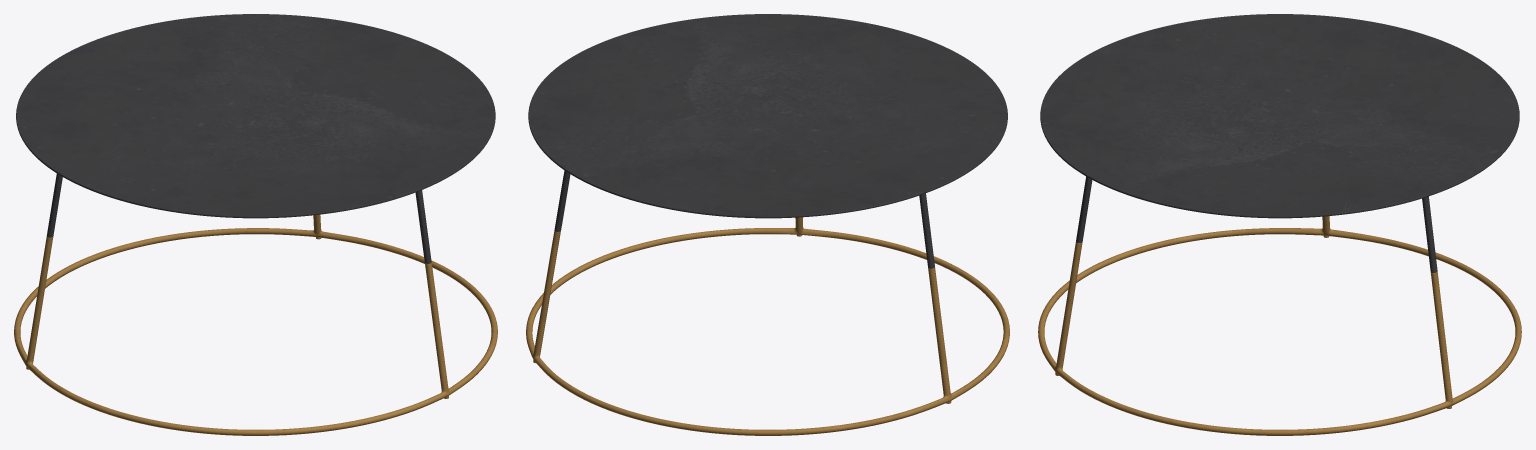
Rendered from CoffeeTableNimbusGoldReplica.glb.
3 views of the same model, side by side, from view 1: azimuth 30°, elevation 25°; view 2: azimuth 150°, elevation 25°; view 3: azimuth 270°, elevation 25° (orthographic).
Visible parts, largest first — view 1: CoffeeTableNimbusGoldReplica001; view 2: CoffeeTableNimbusGoldReplica001; view 3: CoffeeTableNimbusGoldReplica001.
Boxes of the visible parts, box(x1,y1,x2,y2) form: CoffeeTableNimbusGoldReplica001: box(14, 14, 497, 435); CoffeeTableNimbusGoldReplica001: box(526, 14, 1009, 435); CoffeeTableNimbusGoldReplica001: box(1038, 14, 1521, 435).
Bounding box in the file's own units: 0.7184 × 0.3621 × 0.7183.
Materials: 1 (1 with a texture image).
